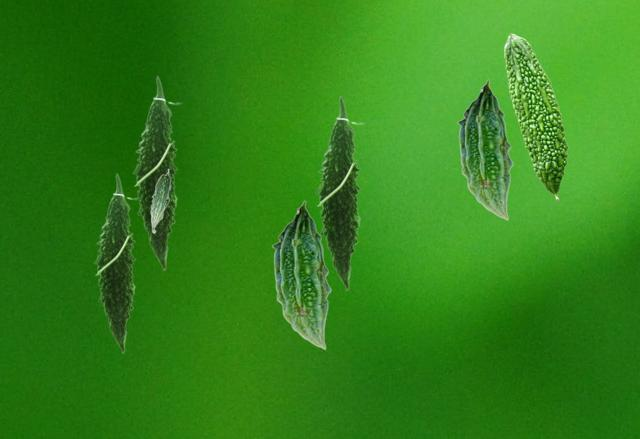ampalaya: (503, 33, 569, 202), (132, 75, 183, 271), (315, 95, 366, 291), (271, 200, 331, 350), (93, 172, 138, 354), (457, 79, 514, 221), (150, 168, 171, 234)
